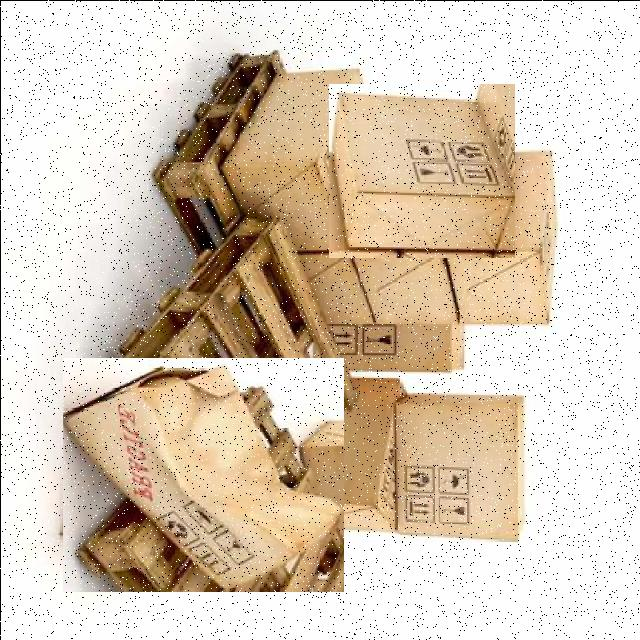defect: (62, 357, 343, 591)
normal: (328, 83, 514, 257), (392, 391, 530, 542)
